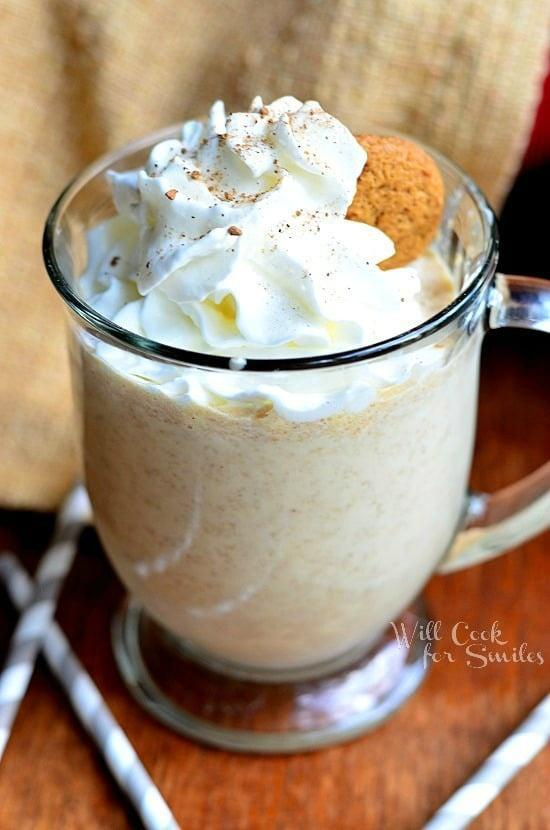glass-mug: (33, 103, 550, 754)
